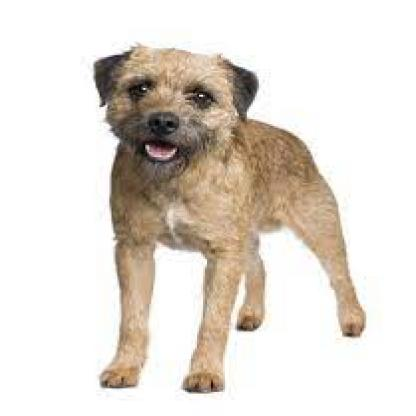Border Terrier: (81, 39, 365, 399)
